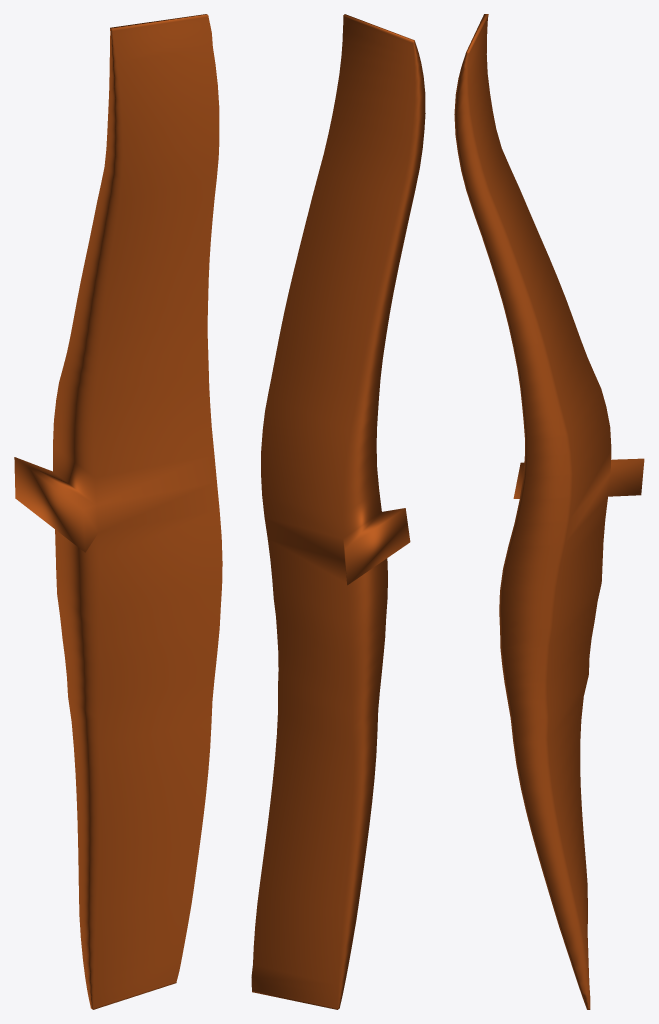
The model's file is CopperVein3.obj.
3 views of the same model, side by side, from view 1: azimuth 30°, elevation 25°; view 2: azimuth 150°, elevation 25°; view 3: azimuth 270°, elevation 25° (orthographic). The views are drawn at different scales.
Parts seen in each view (by area): view 1: Cube.002; view 2: Cube.002; view 3: Cube.002.
Boxes of the visible parts, x1,y1,x2,y2 form: Cube.002: [14, 14, 222, 1009]; Cube.002: [251, 14, 425, 1009]; Cube.002: [454, 14, 644, 1009].
Size of the model in its own units: 0.3846 by 2.81 by 0.5125.
